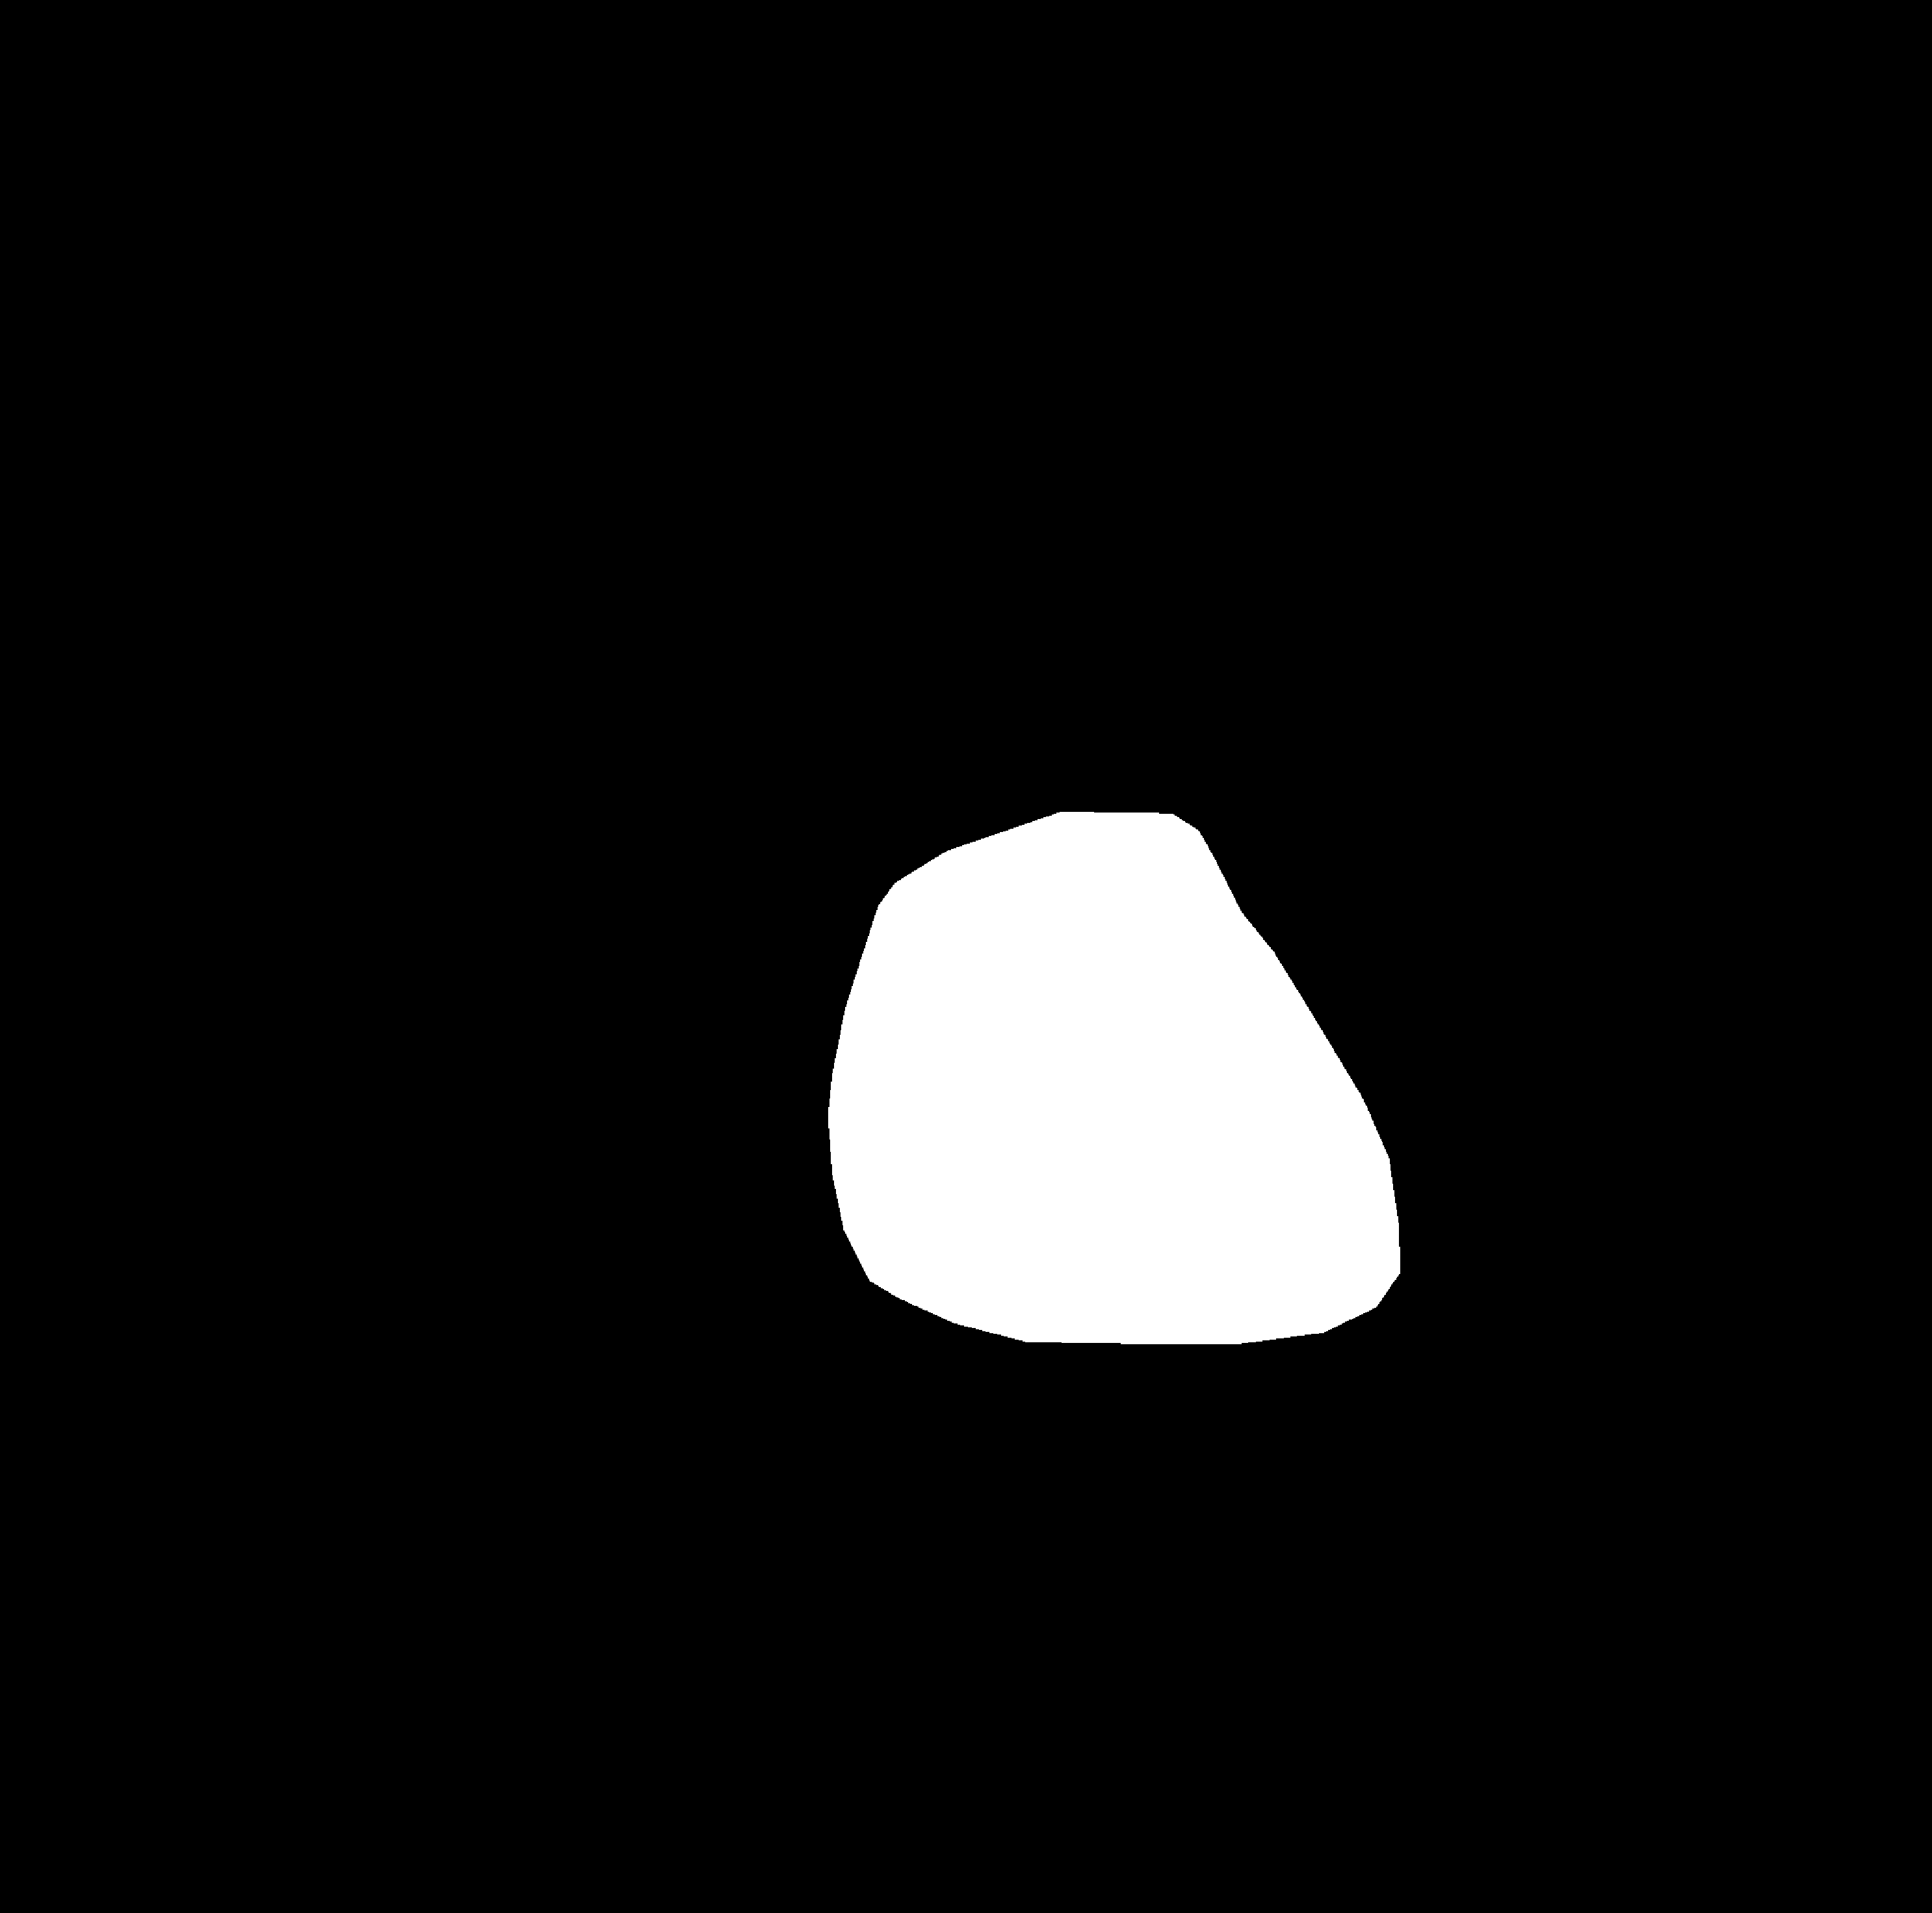heart: (825, 918, 1407, 1358)
left_lung: (380, 194, 942, 1508)
right_lung: (1082, 221, 1611, 1489)
